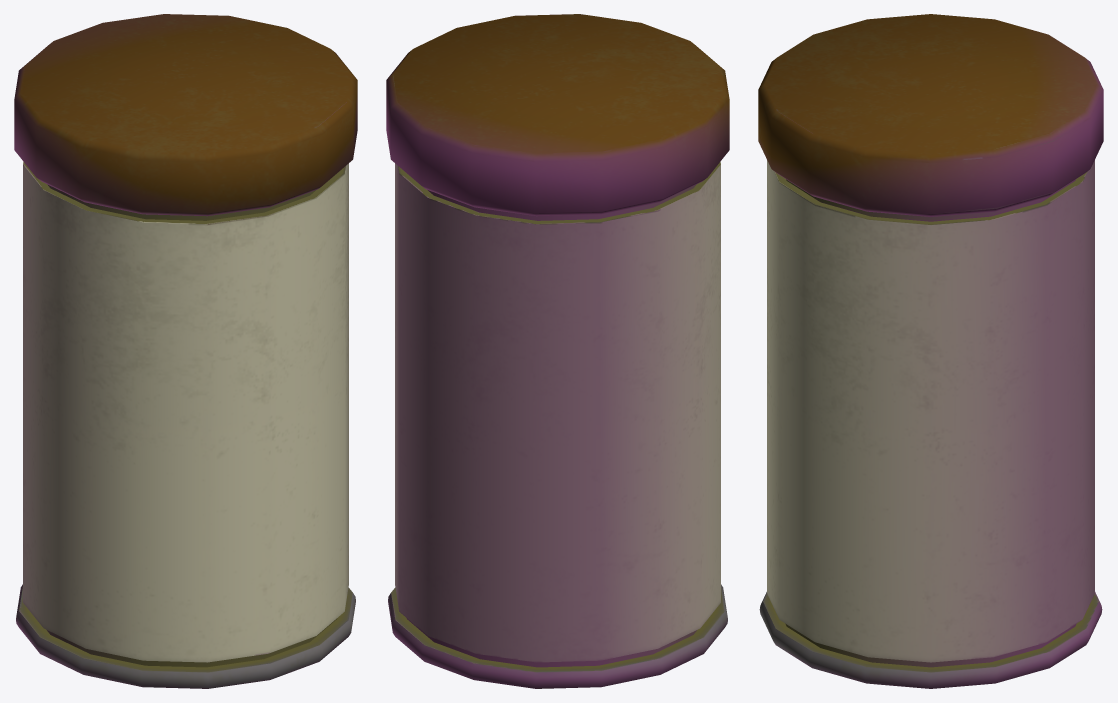
The model's file is Jar.fbx.
3 views of the same model, side by side, from view 1: azimuth 30°, elevation 25°; view 2: azimuth 150°, elevation 25°; view 3: azimuth 270°, elevation 25° (orthographic).
Parts seen in each view (by area): view 1: Jar; view 2: Jar; view 3: Jar.
Part boxes in pixels (x1=…): Jar: x1=14, y1=14, x2=357, y2=688; Jar: x1=386, y1=14, x2=729, y2=688; Jar: x1=758, y1=14, x2=1103, y2=688.
Bounding box in the file's own units: 14.91 × 25.42 × 14.91.
